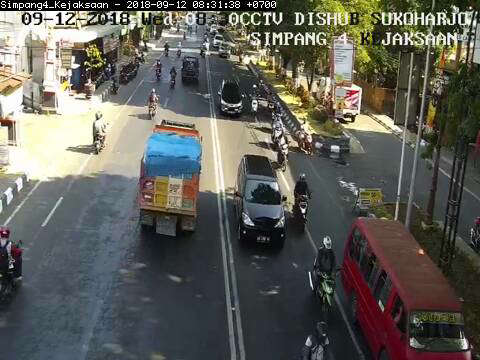motor: (306, 233, 346, 321), (291, 169, 313, 234), (274, 125, 294, 171), (295, 116, 316, 158)
